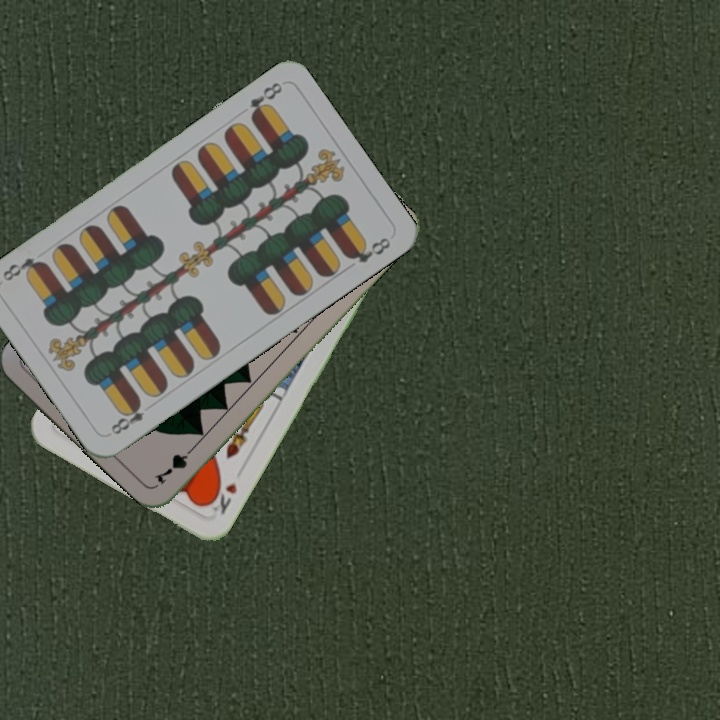E8: (245, 78, 285, 123), (107, 396, 147, 438)
G7: (150, 440, 200, 488)
HK: (202, 478, 240, 517)
